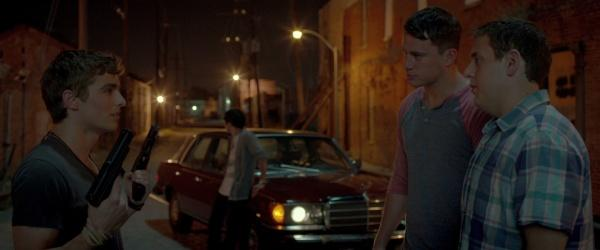Gun: (87, 130, 133, 205), (128, 124, 161, 213)
